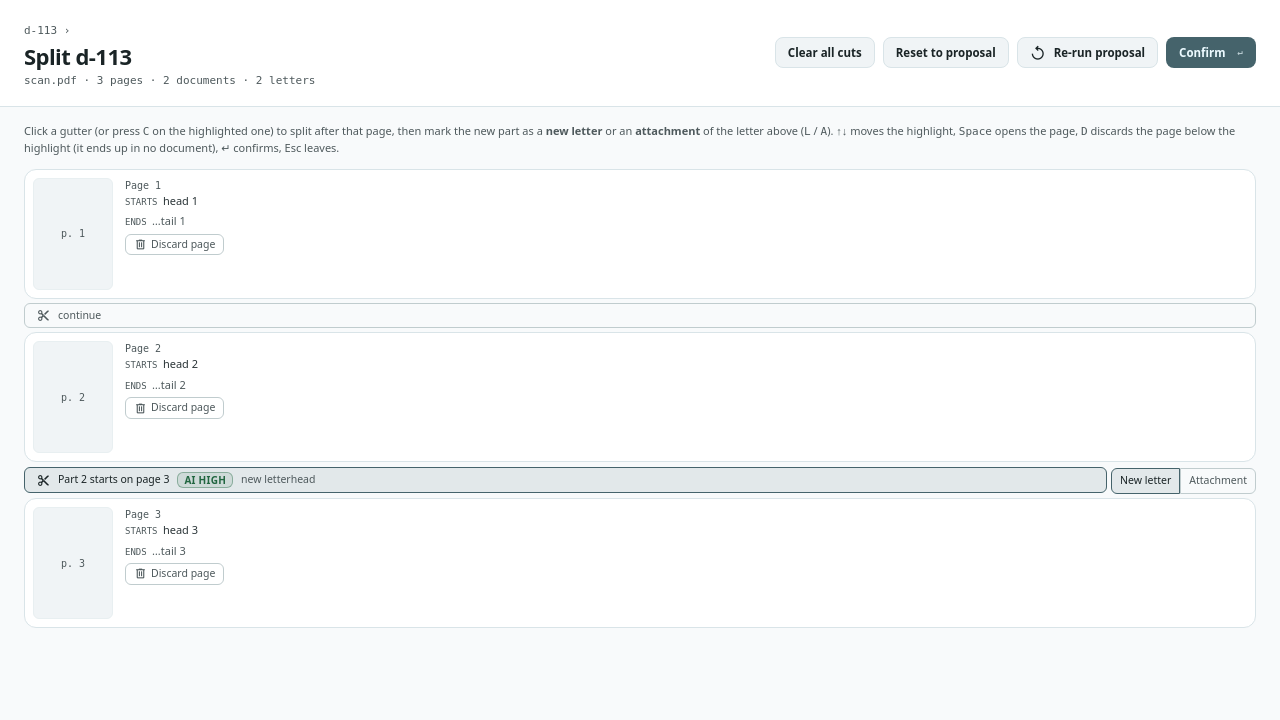
Test: a document that carries your own work is not replaced, and says why
The image size is (1280, 720).
What coordinates should you click on to do the following:
click the button "Confirm ↵"
I would click on:
 (1211, 53)
Its box is [1166, 37, 1256, 68].
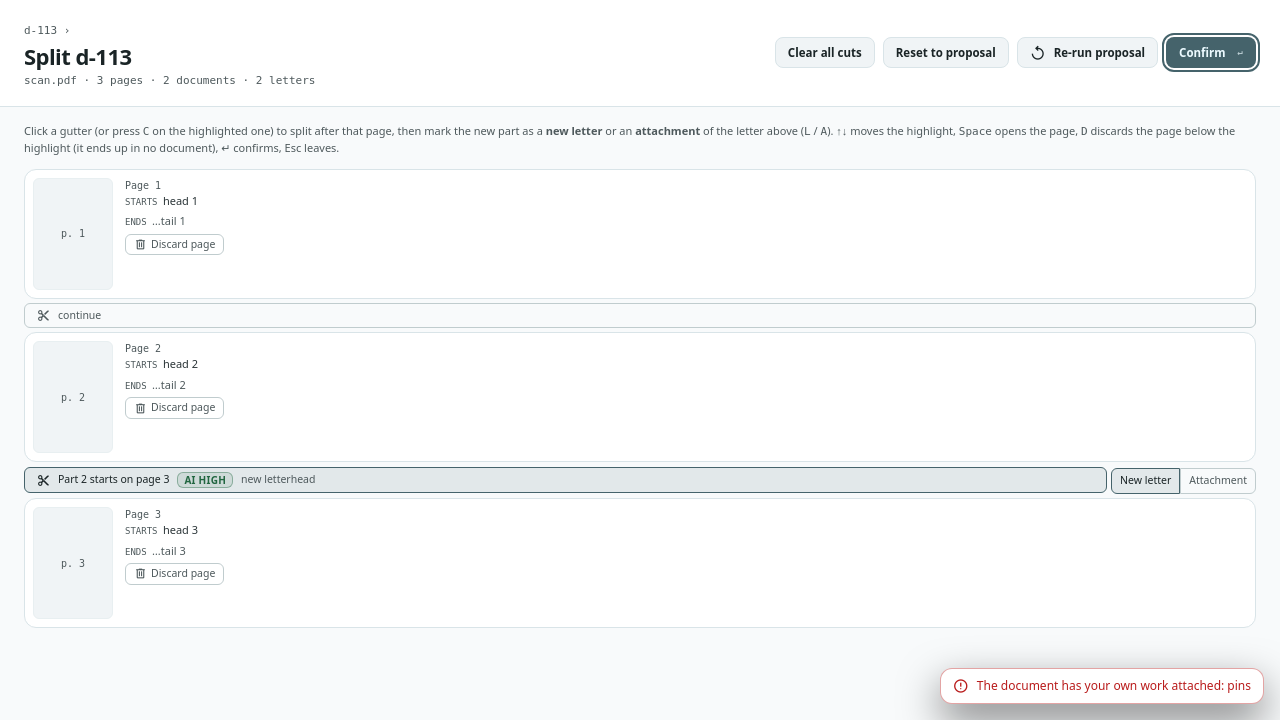
Check: the text "The document has your own work attached: pins" is shown, box [940, 668, 1264, 704]
